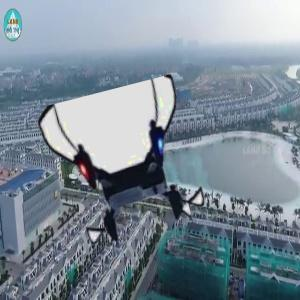drone: (50, 89, 206, 245)
